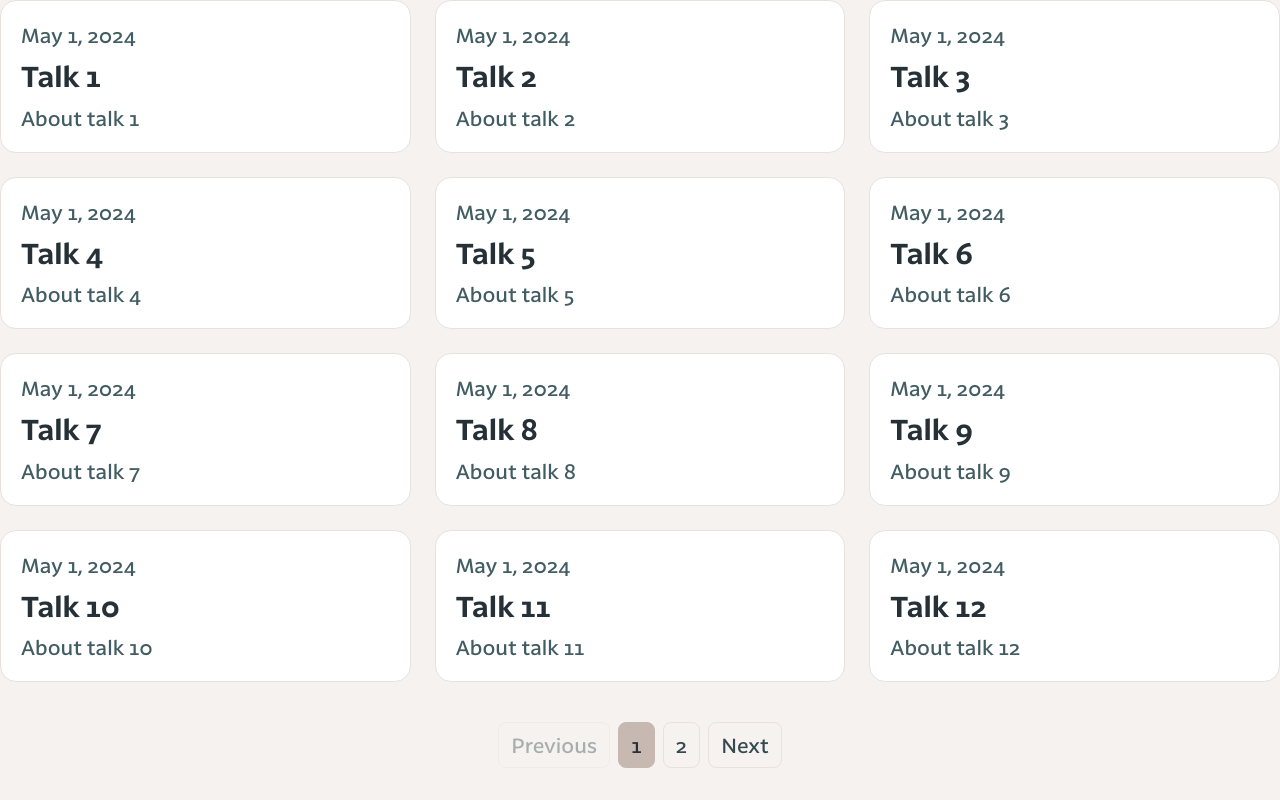
it: SpeakingListClient › paginates talks 12 per page under /posts without badges or reading time
The width and height of the screenshot is (1280, 800).
What coordinates should you click on to do the following:
click the button "2"
I would click on:
 (681, 745)
Its box is [663, 722, 700, 768].
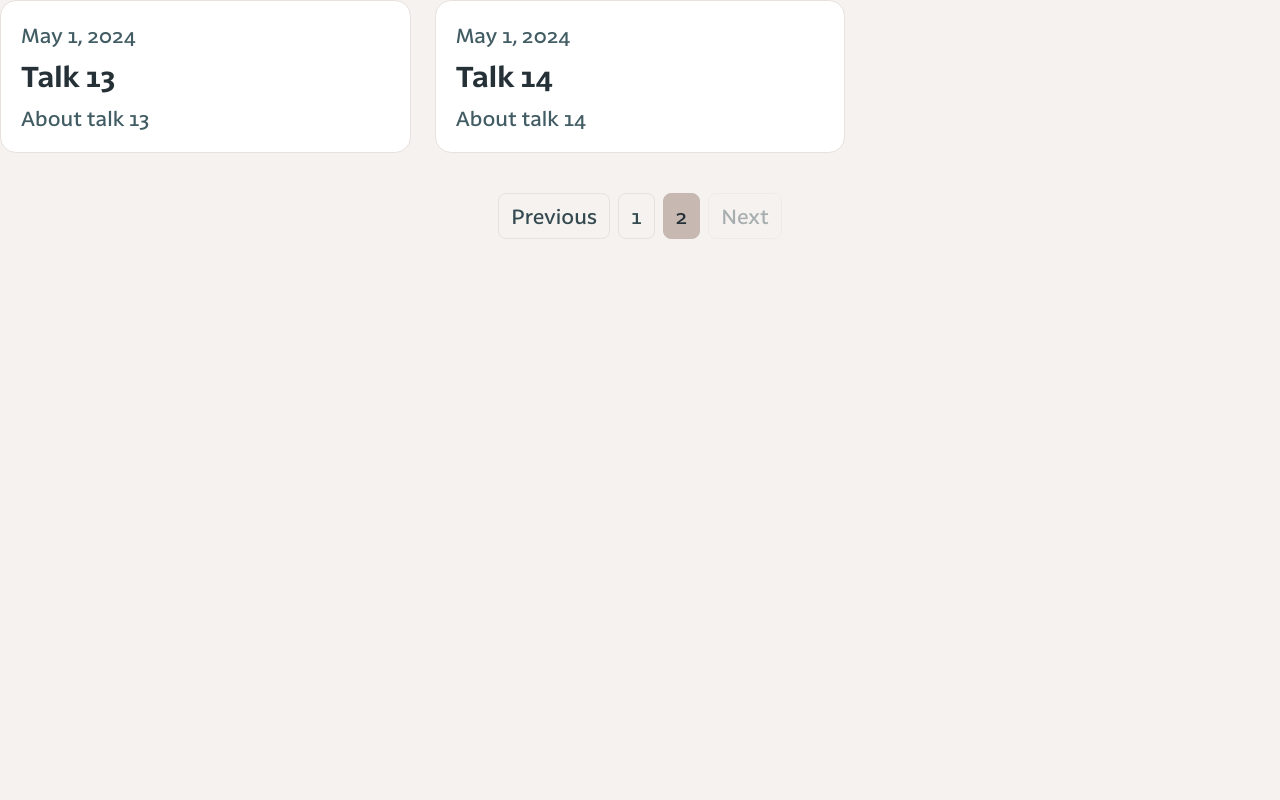
Expected: the link named "Talk 14" is shown, [436, 1, 844, 152]
